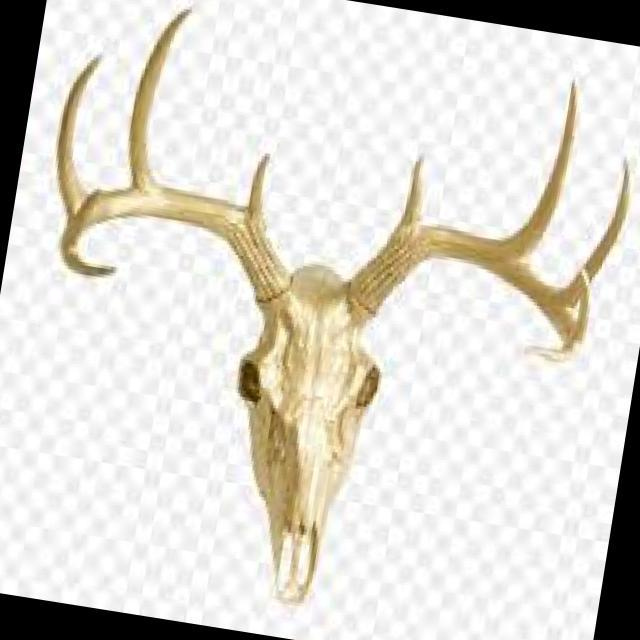L-F: (342, 225, 576, 363)
L-G1: (399, 153, 426, 227)
L-G2: (502, 75, 580, 259)
L-G3: (558, 155, 631, 309)
R-F: (57, 188, 292, 301)
R-G1: (248, 150, 271, 224)
R-G2: (127, 5, 195, 188)
R-G3: (55, 52, 105, 220)
